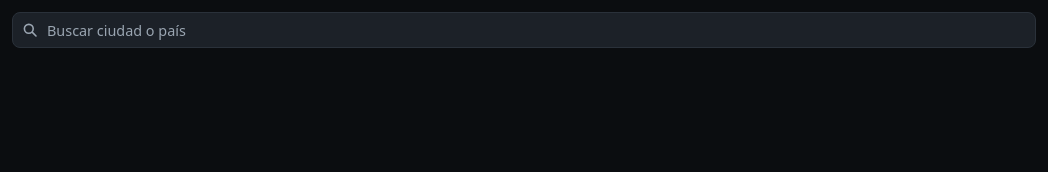
Test case: PlaceSearch › avisa si no hay resultados
Step 1. Type "zzzz" into the dropdown labelled "Buscar ciudad o país" → [524, 30], box [12, 12, 1036, 48]
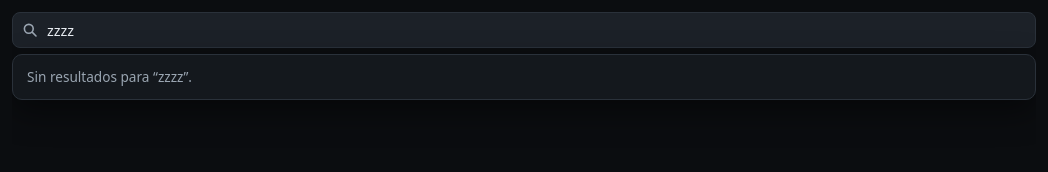
Now the text "Sin resultados para “zzzz”." is shown, box [27, 67, 192, 86]
